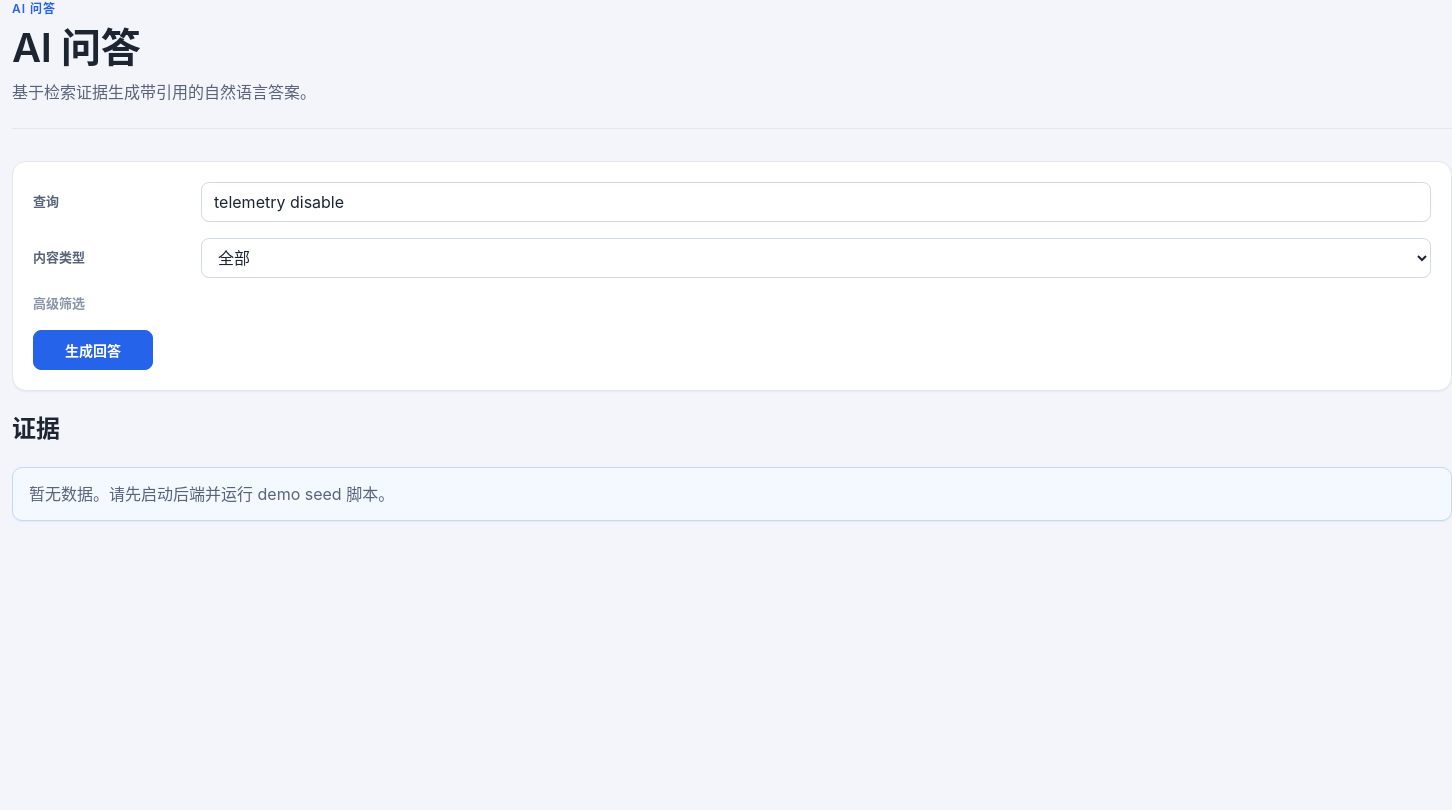
Test: SearchPage › renders answer draft and supporting evidence after a successful answer request
Click the button "生成回答" at {"x": 93, "y": 350}, box [33,330,153,370]
(page scrolled)
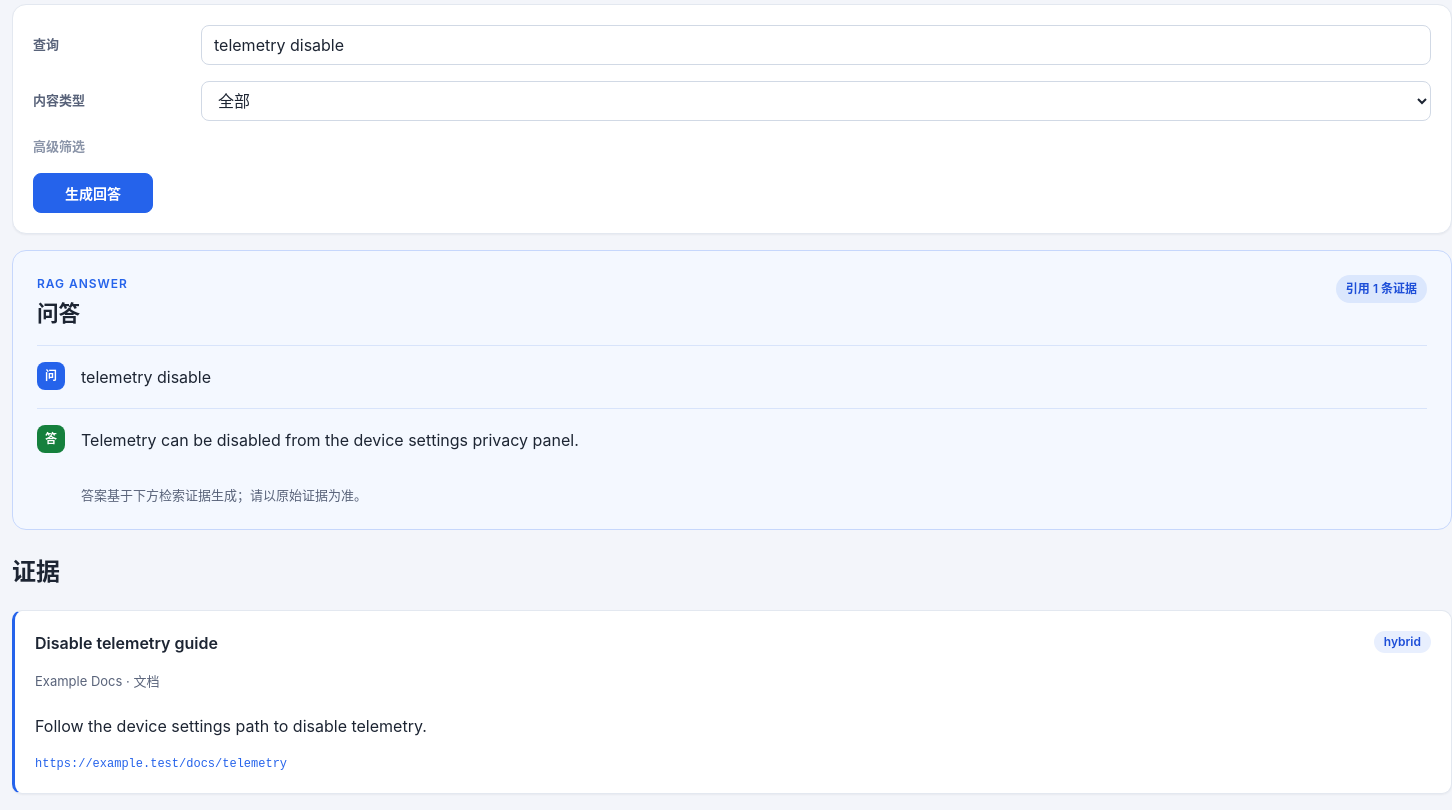
Result: the heading "问答" is shown at [37,300,80,326]
Result: the text "Telemetry can be disabled from the device settings privacy panel." is shown at [81,430,579,450]
Result: the heading "Disable telemetry guide" is shown at [35,631,218,655]
